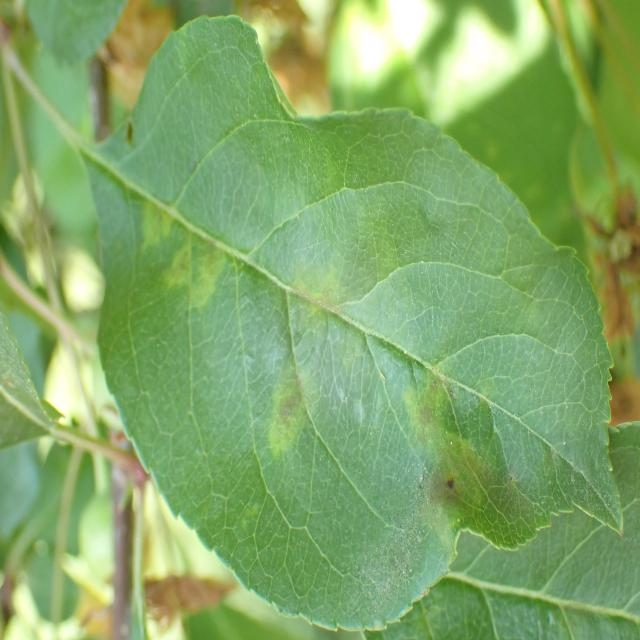scab: (103, 101, 568, 555)
